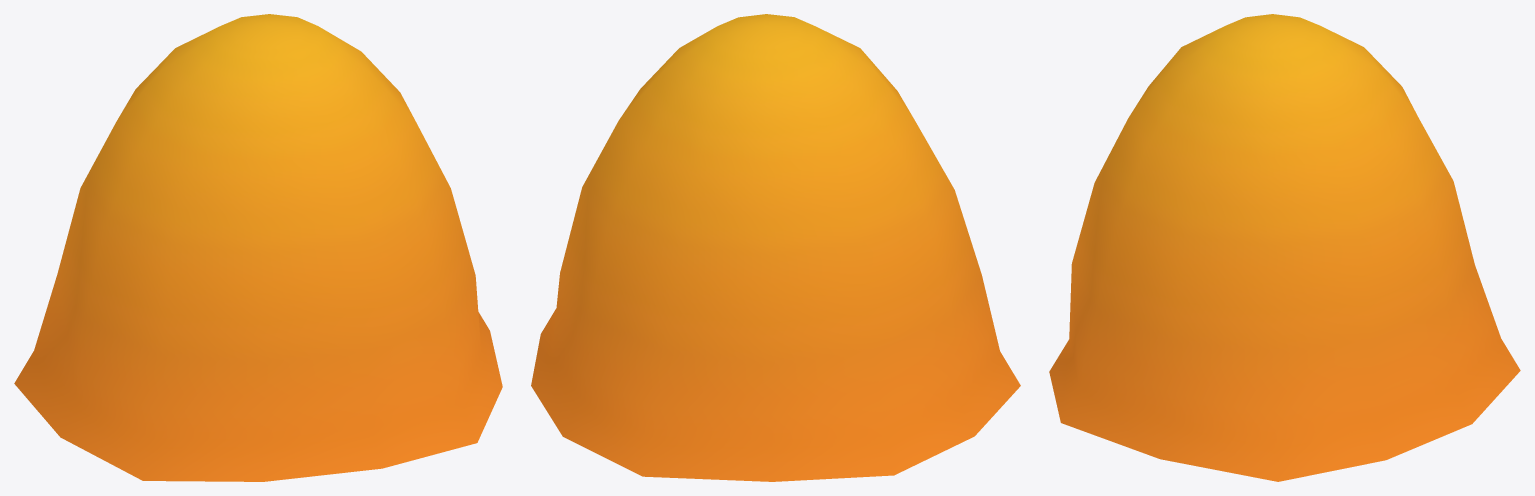
File: village_town_hay_pile.glb
3 views of the same model, side by side, from view 1: azimuth 30°, elevation 25°; view 2: azimuth 150°, elevation 25°; view 3: azimuth 270°, elevation 25° (orthographic). The views are drawn at different scales.
Visible parts, largest first — view 1: Hay_Pile.001_Material.005_0; view 2: Hay_Pile.001_Material.005_0; view 3: Hay_Pile.001_Material.005_0.
Part boxes in pixels (box(x1,y1,x2,y2)): Hay_Pile.001_Material.005_0: box(14, 14, 502, 481); Hay_Pile.001_Material.005_0: box(531, 14, 1020, 481); Hay_Pile.001_Material.005_0: box(1049, 14, 1520, 481).
Bounding box in the file's own units: 1.73 × 1.38 × 1.69.
Materials: 1 (1 with a texture image).
